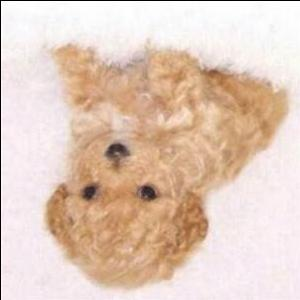dog: (43, 42, 289, 291)
